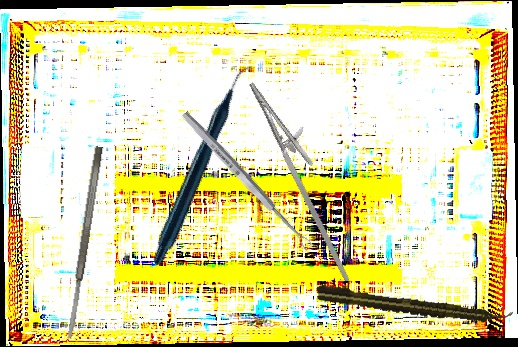Handpiece: (93, 63, 316, 268), (314, 283, 514, 329)
Needle Holder: (225, 72, 387, 283)
Spatula Surgical: (63, 145, 105, 340)
Surgical Spoon: (179, 109, 315, 253)
